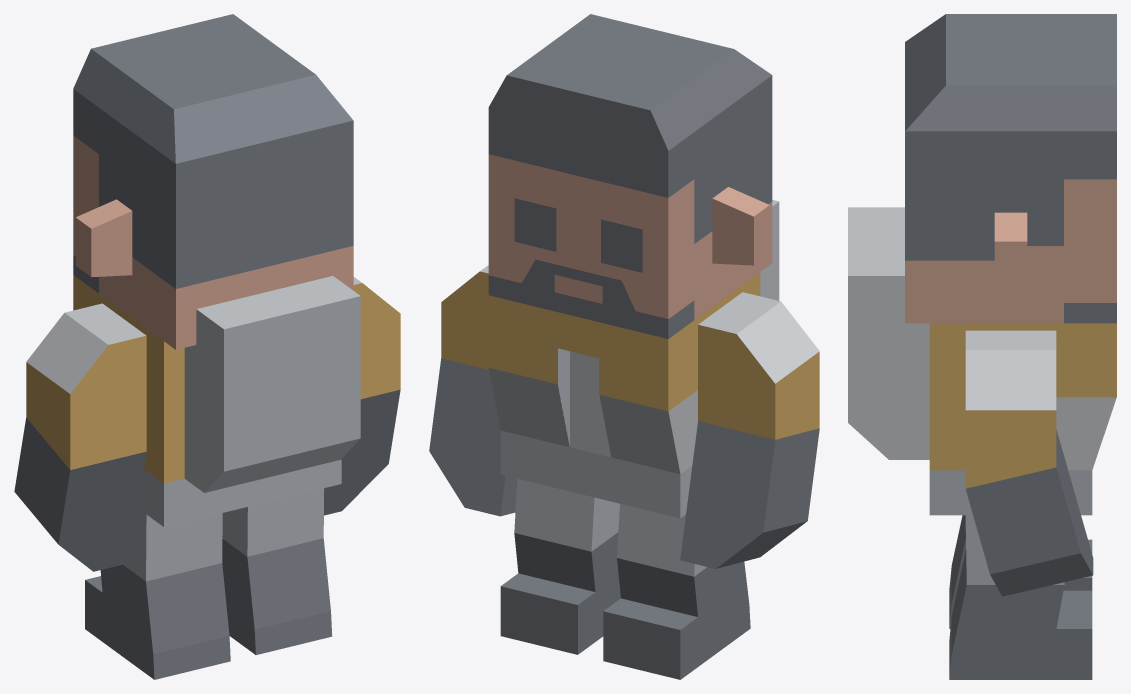
File: astronautB.glb
The picture shows the model from 3 angles, left to right: view 1: azimuth 30°, elevation 25°; view 2: azimuth 150°, elevation 25°; view 3: azimuth 270°, elevation 25°; orthographic projection. The views are drawn at different scales.
Parts seen in each view (by area): view 1: armLeft, body, head; view 2: armLeft, head, body; view 3: armLeft, head, body.
Part boxes in pixels (x1,y1,x2,y2): armLeft: [14, 14, 400, 679]; body: [123, 296, 360, 581]; head: [73, 135, 353, 349]; armLeft: [429, 14, 819, 679]; head: [488, 154, 772, 319]; body: [500, 348, 706, 576]; armLeft: [848, 14, 1116, 679]; head: [905, 179, 1116, 323]; body: [929, 470, 1092, 584].
Size of the model in its own units: 0.4832 by 0.7932 by 0.33.
